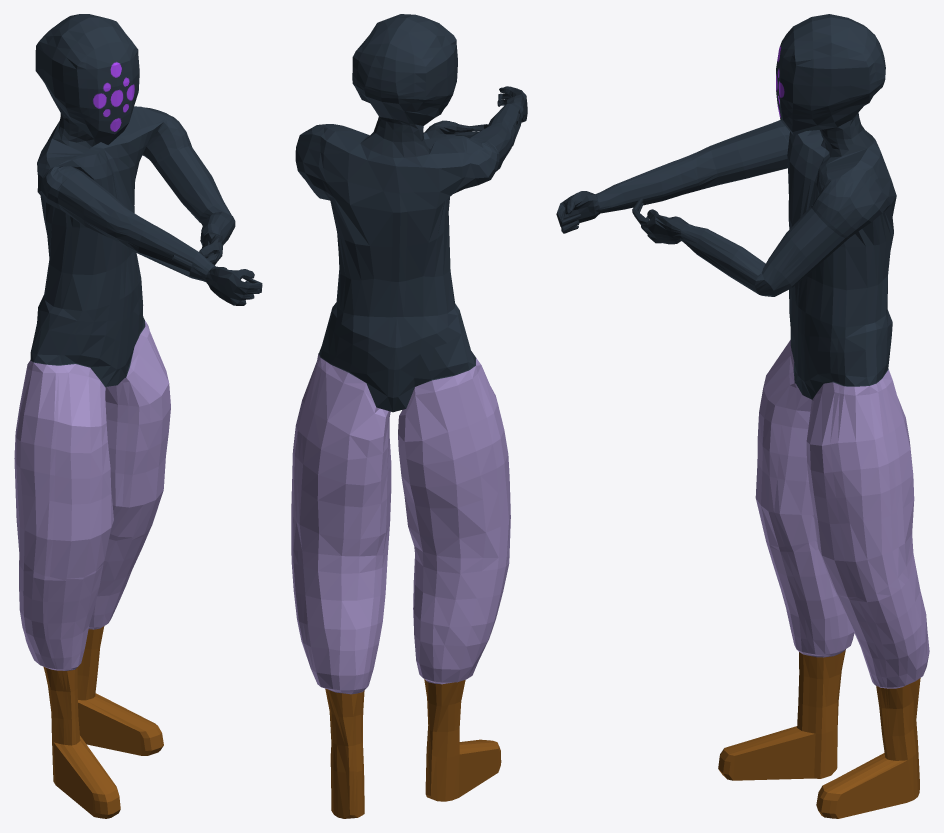
The model's file is Oracle_Attack_000007.obj.
3 renders of one model, left to right at view 1: azimuth 30°, elevation 25°; view 2: azimuth 150°, elevation 25°; view 3: azimuth 270°, elevation 25°, orthographic. The views are drawn at different scales.
Parts seen in each view (by area): view 1: Cube; view 2: Cube; view 3: Cube.
Boxes of the visible parts, box(x1,y1,x2,y2) form: Cube: box(14, 14, 262, 818); Cube: box(291, 14, 527, 818); Cube: box(556, 14, 929, 818).
Size of the model in its own units: 1.06 by 3.94 by 1.72.
